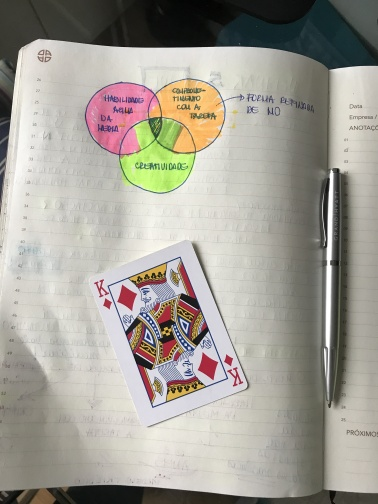king: (87, 239, 250, 429)
